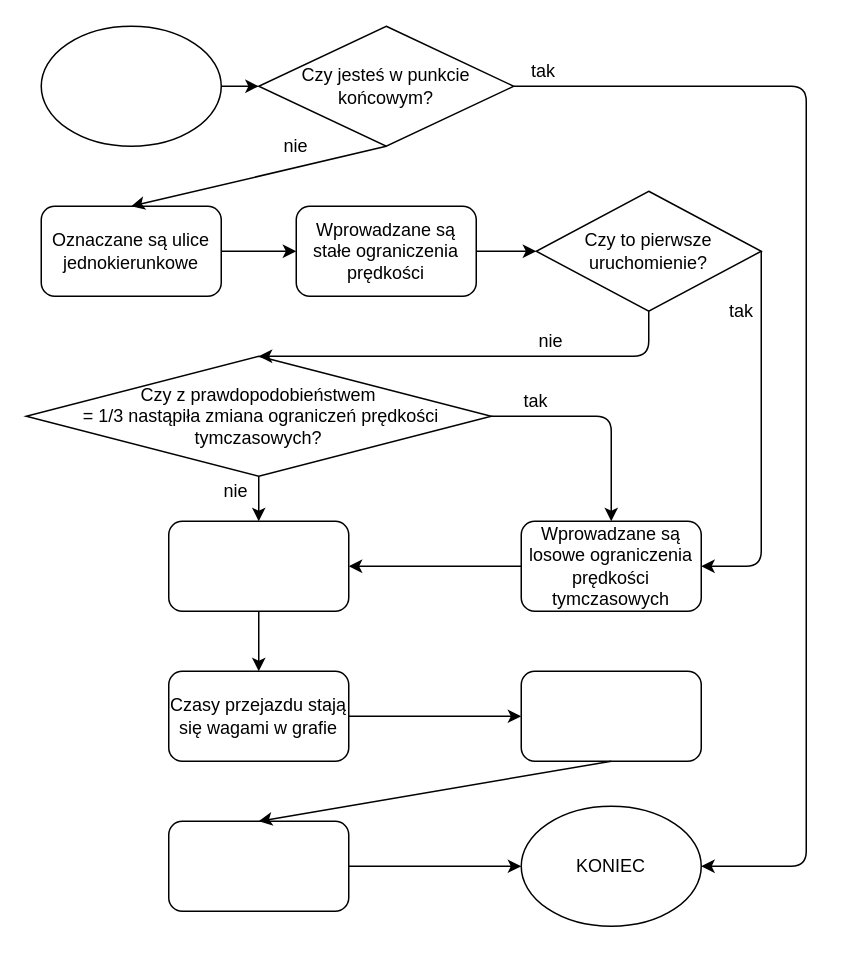
This 845x953 diagram has some shape labels left out. Here are the shapes that lost their labels. From the top down, the centre of each, then its label:
(x=130, y=85): START
(x=258, y=565): Obliczane są czasy przejazdu na każdej drodze
(x=610, y=715): Algorytm Dijkstry na wyznacza optymalną ścieżkę w grafie
(x=258, y=865): Na podstawie ścieżki tworzona jest trasa na mapie
